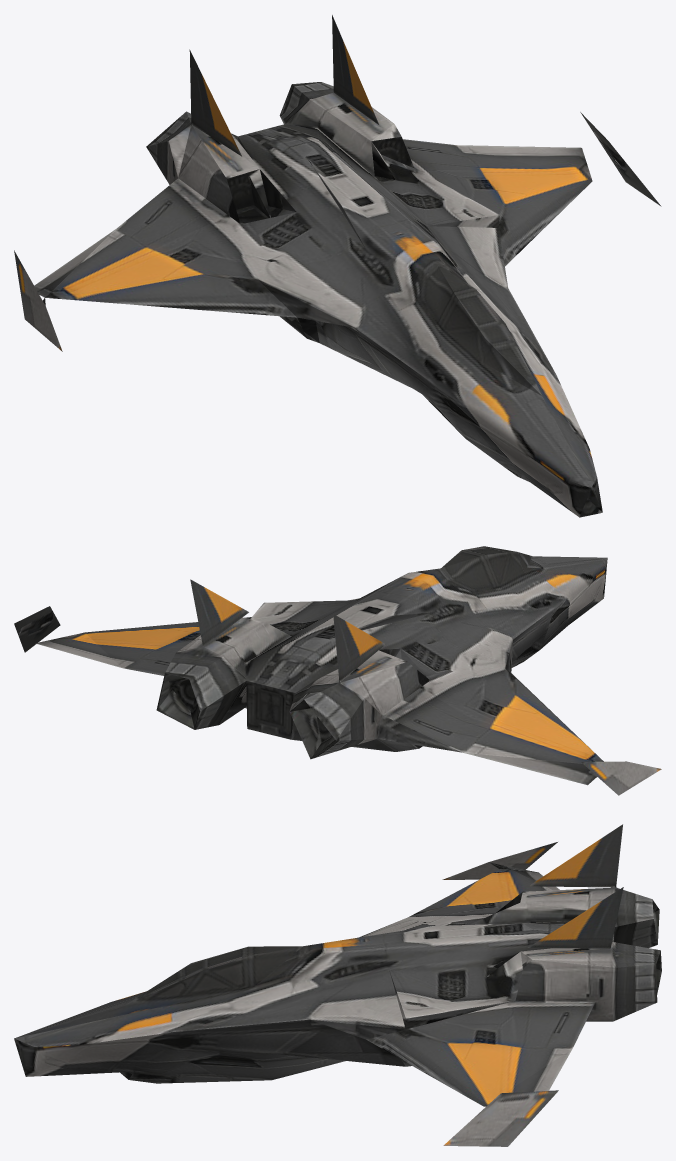
File: interceptor-far.glb
3 renders of one model, top to bottom at view 1: azimuth 30°, elevation 25°; view 2: azimuth 150°, elevation 25°; view 3: azimuth 270°, elevation 25°, orthographic. The views are drawn at different scales.
Parts seen in each view (by area): view 1: Low; view 2: Low; view 3: Low.
Boxes of the visible parts, x1,y1,x2,y2 form: Low: (14, 15, 661, 517); Low: (14, 546, 661, 795); Low: (14, 824, 661, 1146).
Size of the model in its own units: 1.65 by 0.6706 by 1.72.
Materials: 1 (1 with a texture image).
